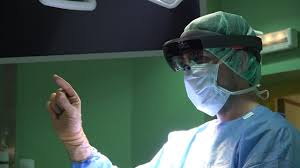hololens: (161, 32, 265, 75)
